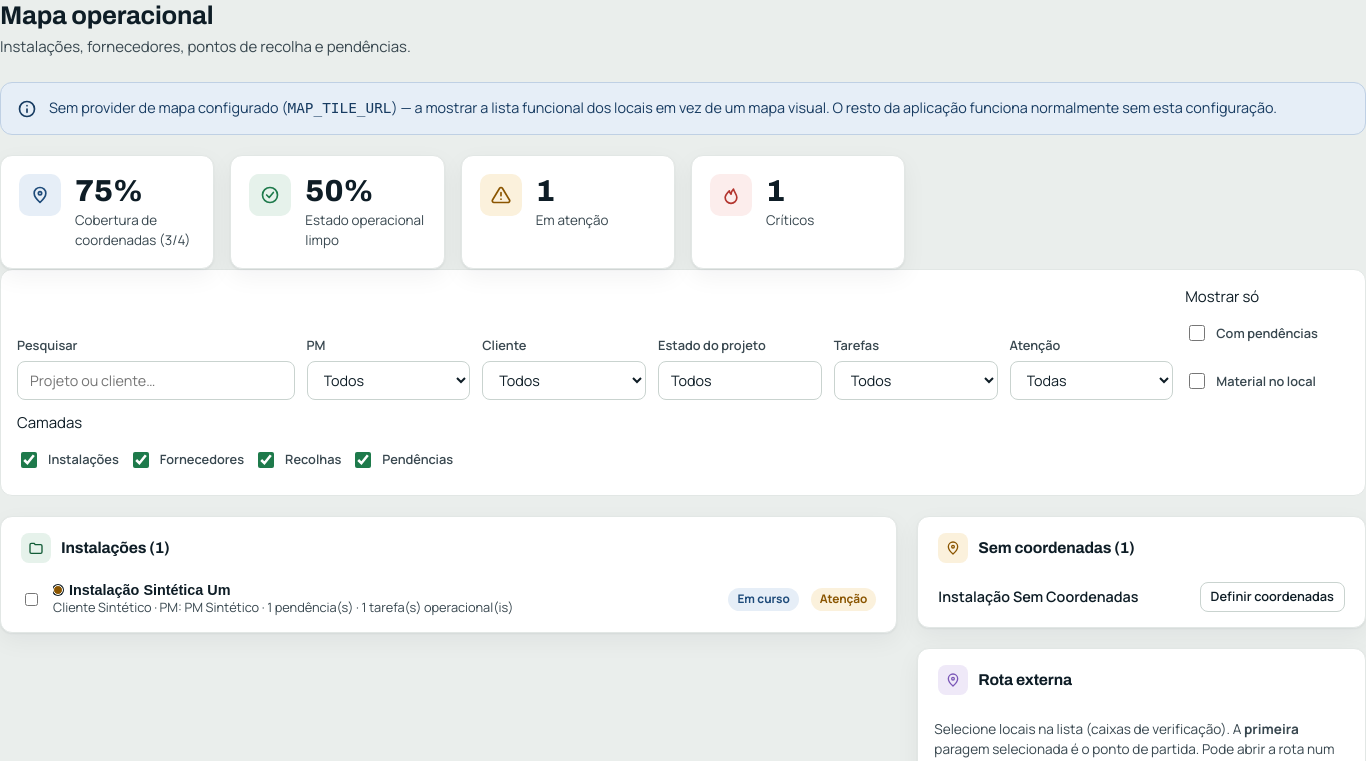
Test: Mapa operacional › sem calendar.view mostra 'sem permissão' e nunca '0 visitas'
This screenshot has width=1366, height=761.
Click the button "Instalação Sintética Um". click: (142, 590)
box: x1=53 y1=582 x2=231 y2=598
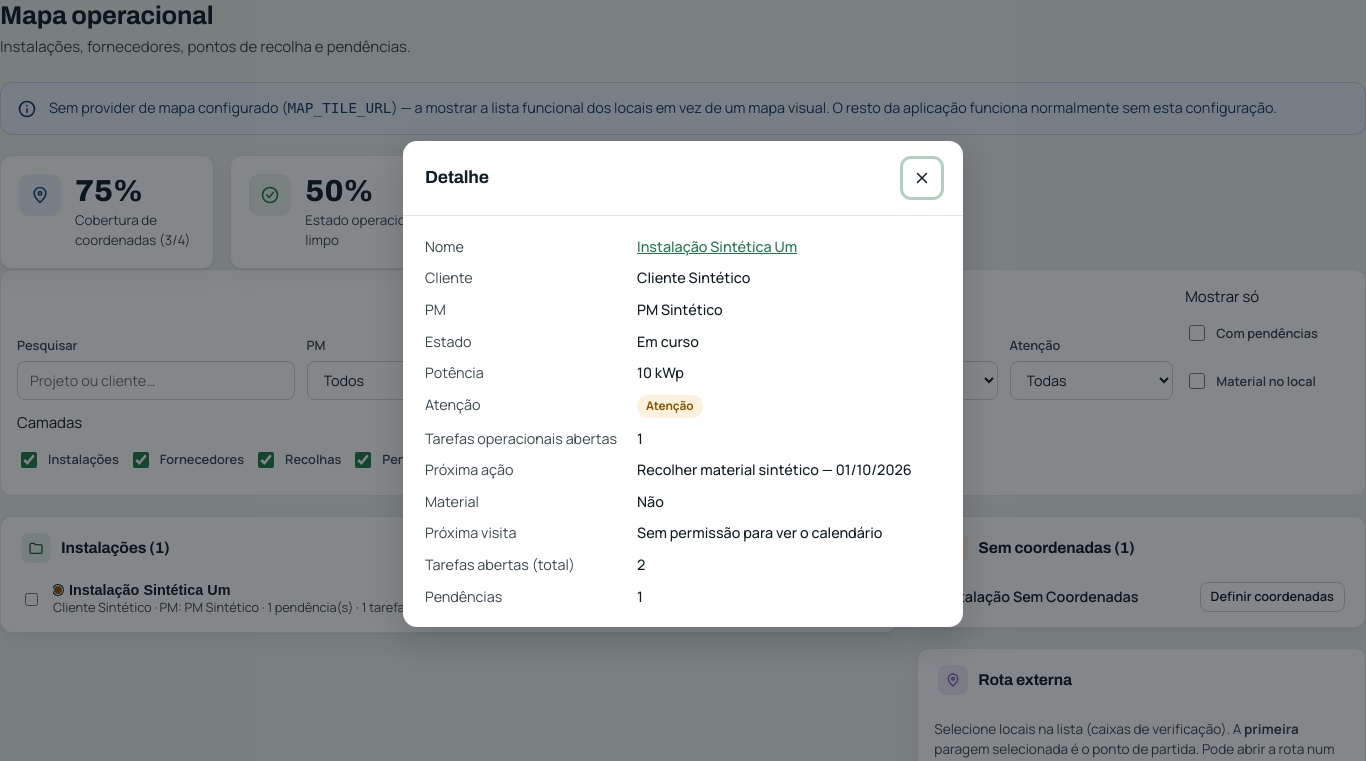
expect the text "Sem permissão para ver o calendário" is shown: met, box x1=637 y1=524 x2=882 y2=542
